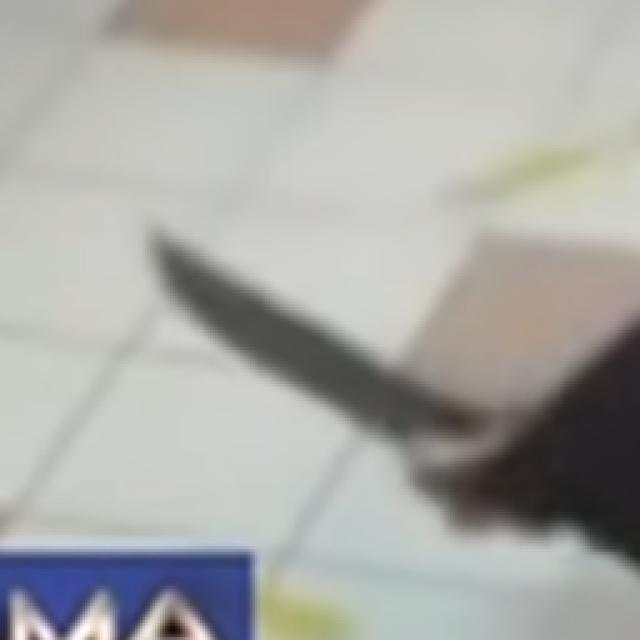Fknife: (144, 222, 544, 524)
